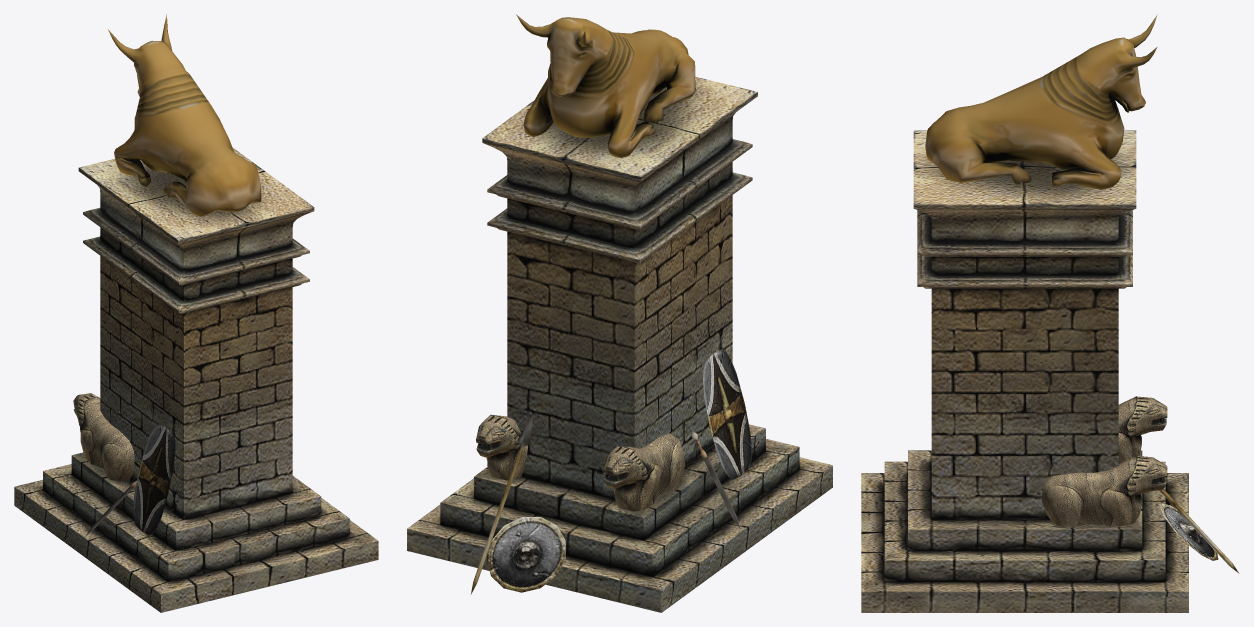
File: s_iberians_sb_1.glb
The picture shows the model from 3 angles, left to right: view 1: azimuth 30°, elevation 25°; view 2: azimuth 150°, elevation 25°; view 3: azimuth 270°, elevation 25°; orthographic projection. The views are drawn at different scales.
Parts seen in each view (by area): view 1: s_iberians_sb_1_part0, s_iberians_sb_1_part3, s_iberians_sb_1_part2, s_iberians_sb_1_part4; view 2: s_iberians_sb_1_part0, s_iberians_sb_1_part3, s_iberians_sb_1_part2, s_iberians_sb_1_part4, s_iberians_sb_1_part1; view 3: s_iberians_sb_1_part0, s_iberians_sb_1_part3, s_iberians_sb_1_part4, s_iberians_sb_1_part2, s_iberians_sb_1_part1.
Boxes of the visible parts, x1=… form: s_iberians_sb_1_part0: x1=14, y1=147, x2=378, y2=612; s_iberians_sb_1_part3: x1=108, y1=14, x2=261, y2=216; s_iberians_sb_1_part2: x1=133, y1=424, x2=175, y2=535; s_iberians_sb_1_part4: x1=73, y1=393, x2=134, y2=481; s_iberians_sb_1_part0: x1=407, y1=76, x2=832, y2=612; s_iberians_sb_1_part3: x1=516, y1=14, x2=695, y2=157; s_iberians_sb_1_part2: x1=486, y1=348, x2=751, y2=592; s_iberians_sb_1_part4: x1=476, y1=414, x2=685, y2=511; s_iberians_sb_1_part1: x1=471, y1=415, x2=740, y2=594; s_iberians_sb_1_part0: x1=861, y1=130, x2=1188, y2=612; s_iberians_sb_1_part3: x1=925, y1=14, x2=1157, y2=189; s_iberians_sb_1_part4: x1=1042, y1=396, x2=1167, y2=527; s_iberians_sb_1_part2: x1=1160, y1=503, x2=1218, y2=560; s_iberians_sb_1_part1: x1=1120, y1=445, x2=1239, y2=573.
Bounding box in the file's own units: 1.19 × 2.46 × 1.6.
5 materials, 5 textured.
